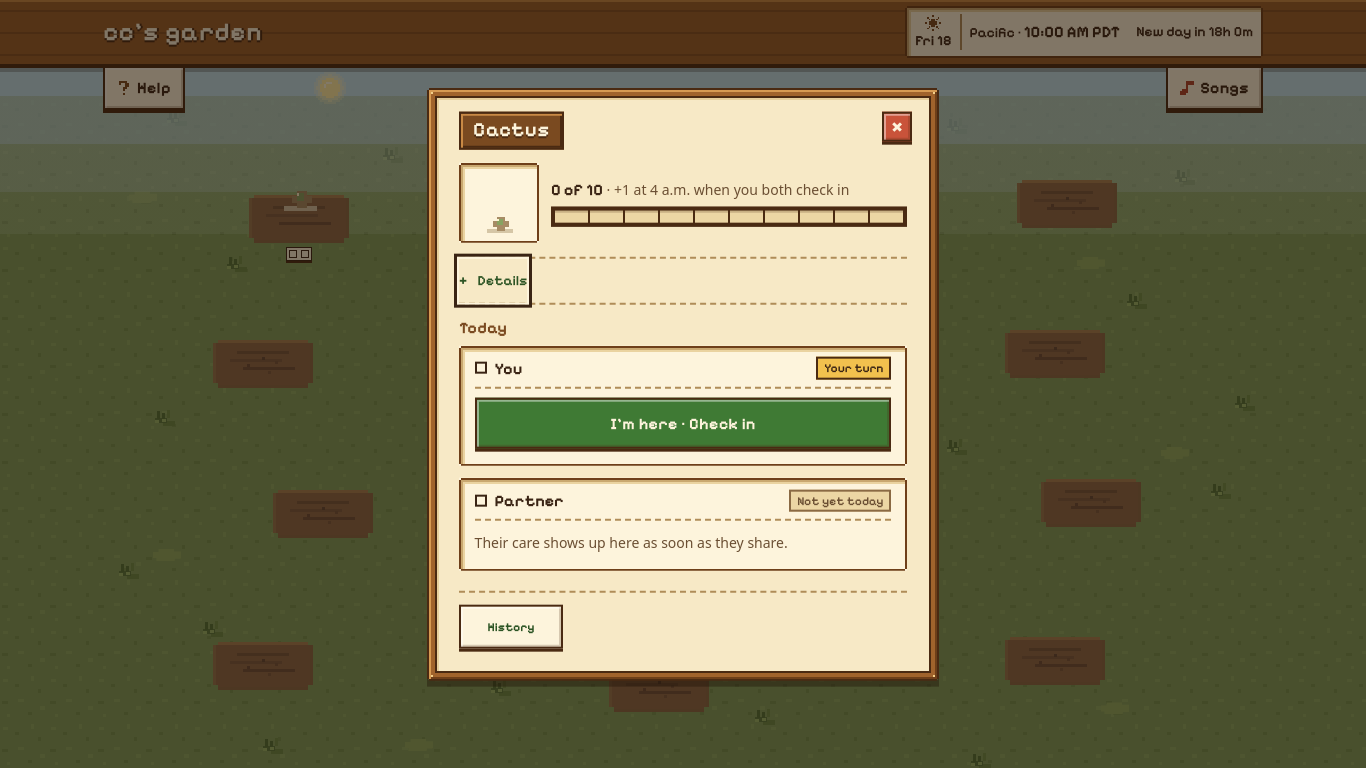
Test: absorbs blooms, unlocks and badges from your own action opened by a spot request and still shows partner care
Click the button "I’m here · Check in" at (683, 423), box [475,398,891,448]
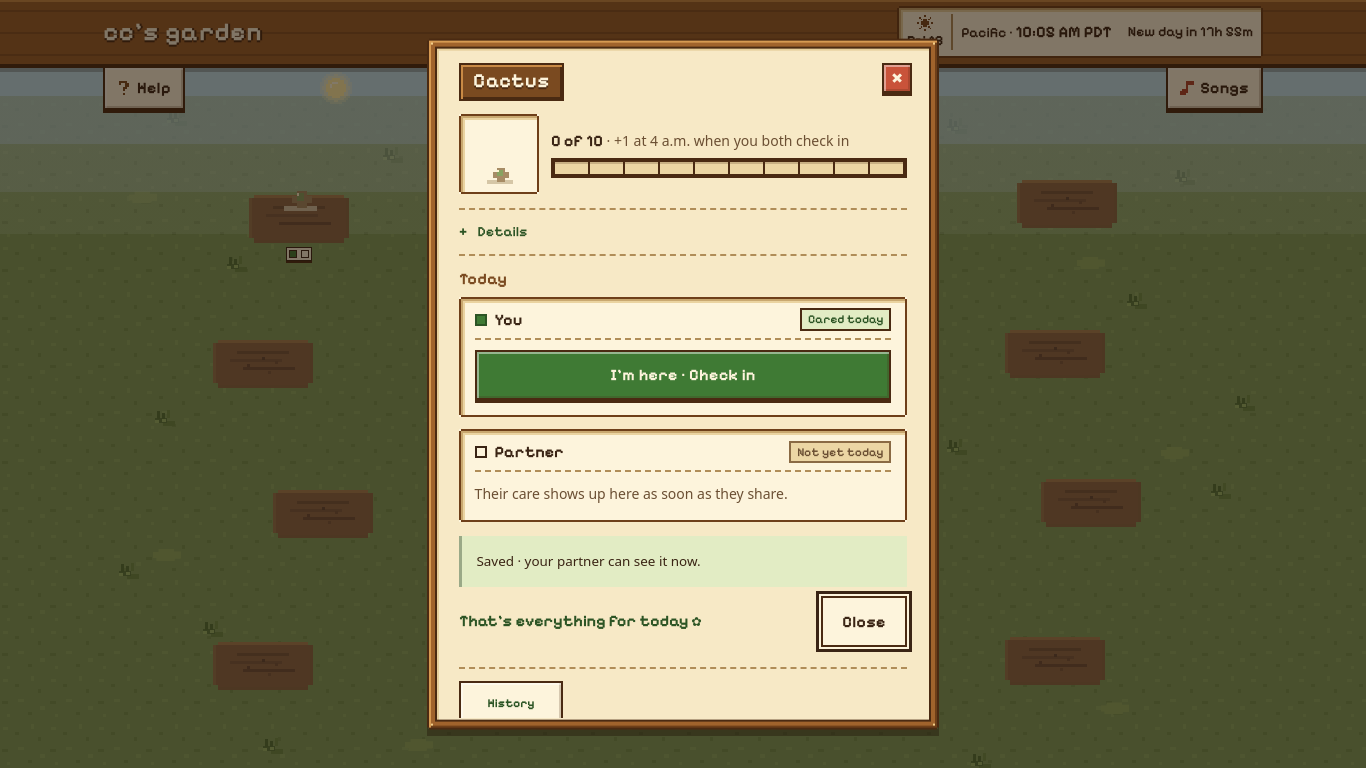
Press Escape
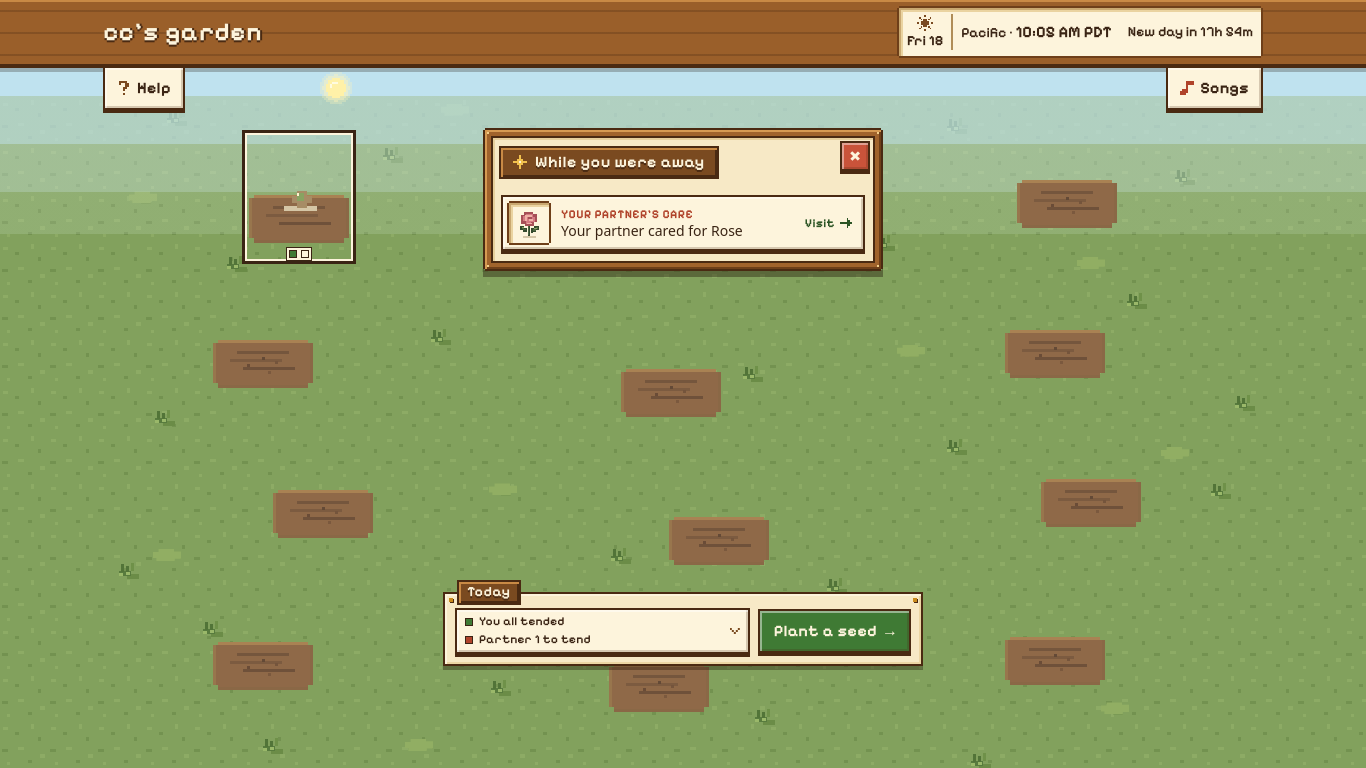
Now the dialog is gone
Now the text "Your partner cared for Rose" is shown, box [561,221,743,240]
